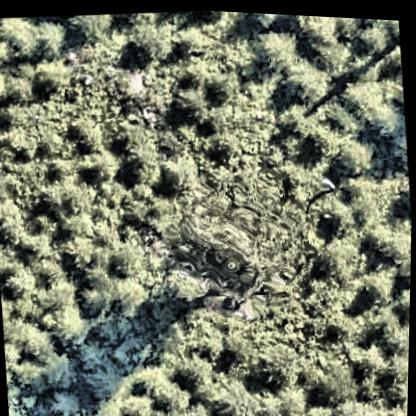tree-top: (316, 221, 371, 278), (340, 68, 393, 122), (285, 54, 334, 103), (109, 246, 150, 304), (256, 22, 303, 71), (131, 20, 178, 68), (315, 358, 361, 406), (0, 14, 42, 61), (332, 132, 375, 176), (137, 155, 180, 198), (166, 91, 214, 129), (0, 198, 37, 246), (361, 260, 404, 301), (311, 34, 353, 75), (68, 11, 113, 49), (160, 154, 199, 197), (109, 271, 149, 312), (34, 63, 73, 104), (108, 240, 147, 280), (272, 377, 312, 416), (53, 303, 91, 344), (263, 348, 302, 387), (129, 150, 164, 193), (84, 149, 122, 187), (204, 69, 241, 108), (36, 18, 72, 58), (177, 352, 213, 391), (354, 18, 392, 54), (65, 179, 100, 217), (5, 263, 40, 300), (384, 348, 410, 397), (77, 118, 112, 154), (43, 384, 81, 416), (61, 209, 95, 243), (160, 383, 195, 416), (88, 392, 127, 416), (121, 389, 155, 416), (78, 281, 107, 311), (27, 210, 57, 239), (330, 13, 362, 38), (243, 10, 284, 29), (303, 399, 338, 416), (183, 399, 217, 416), (396, 280, 411, 313)
